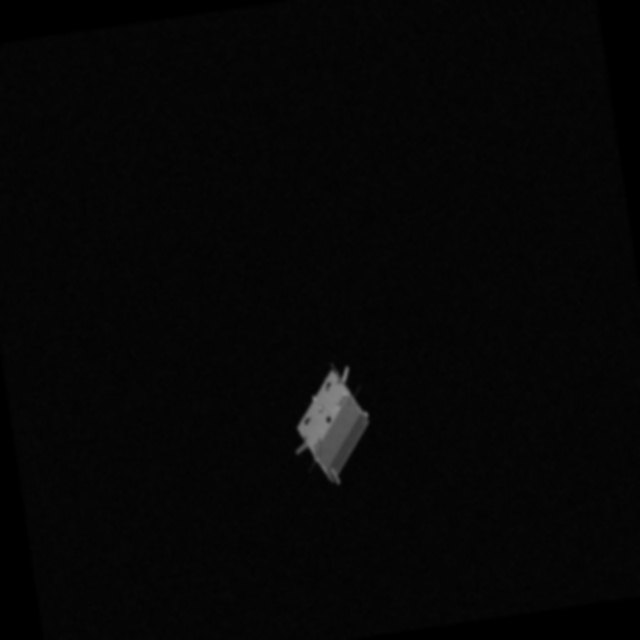satellite: (270, 362, 370, 486)
